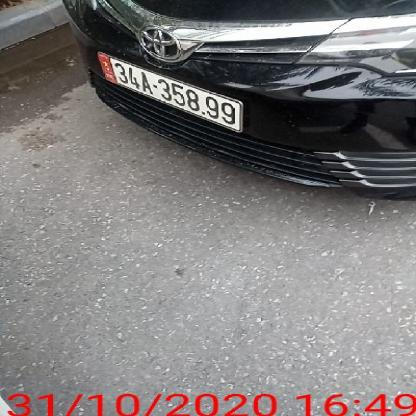biensoxe: (92, 49, 244, 132)
